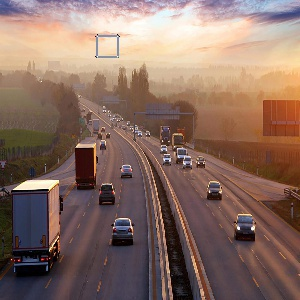square: (94, 34, 120, 59)
